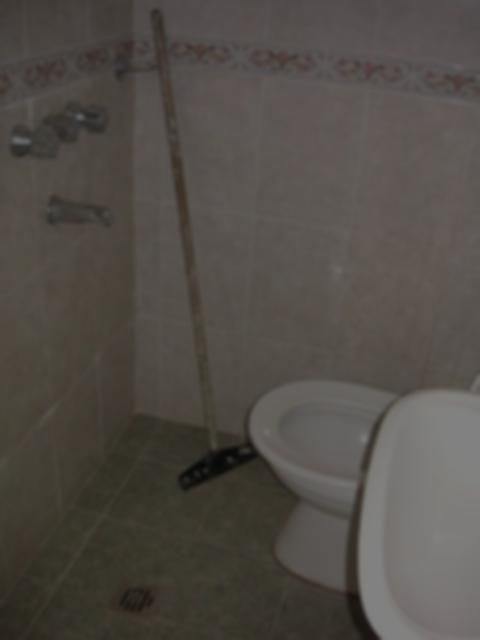Lavamanos: (350, 391, 479, 639)
